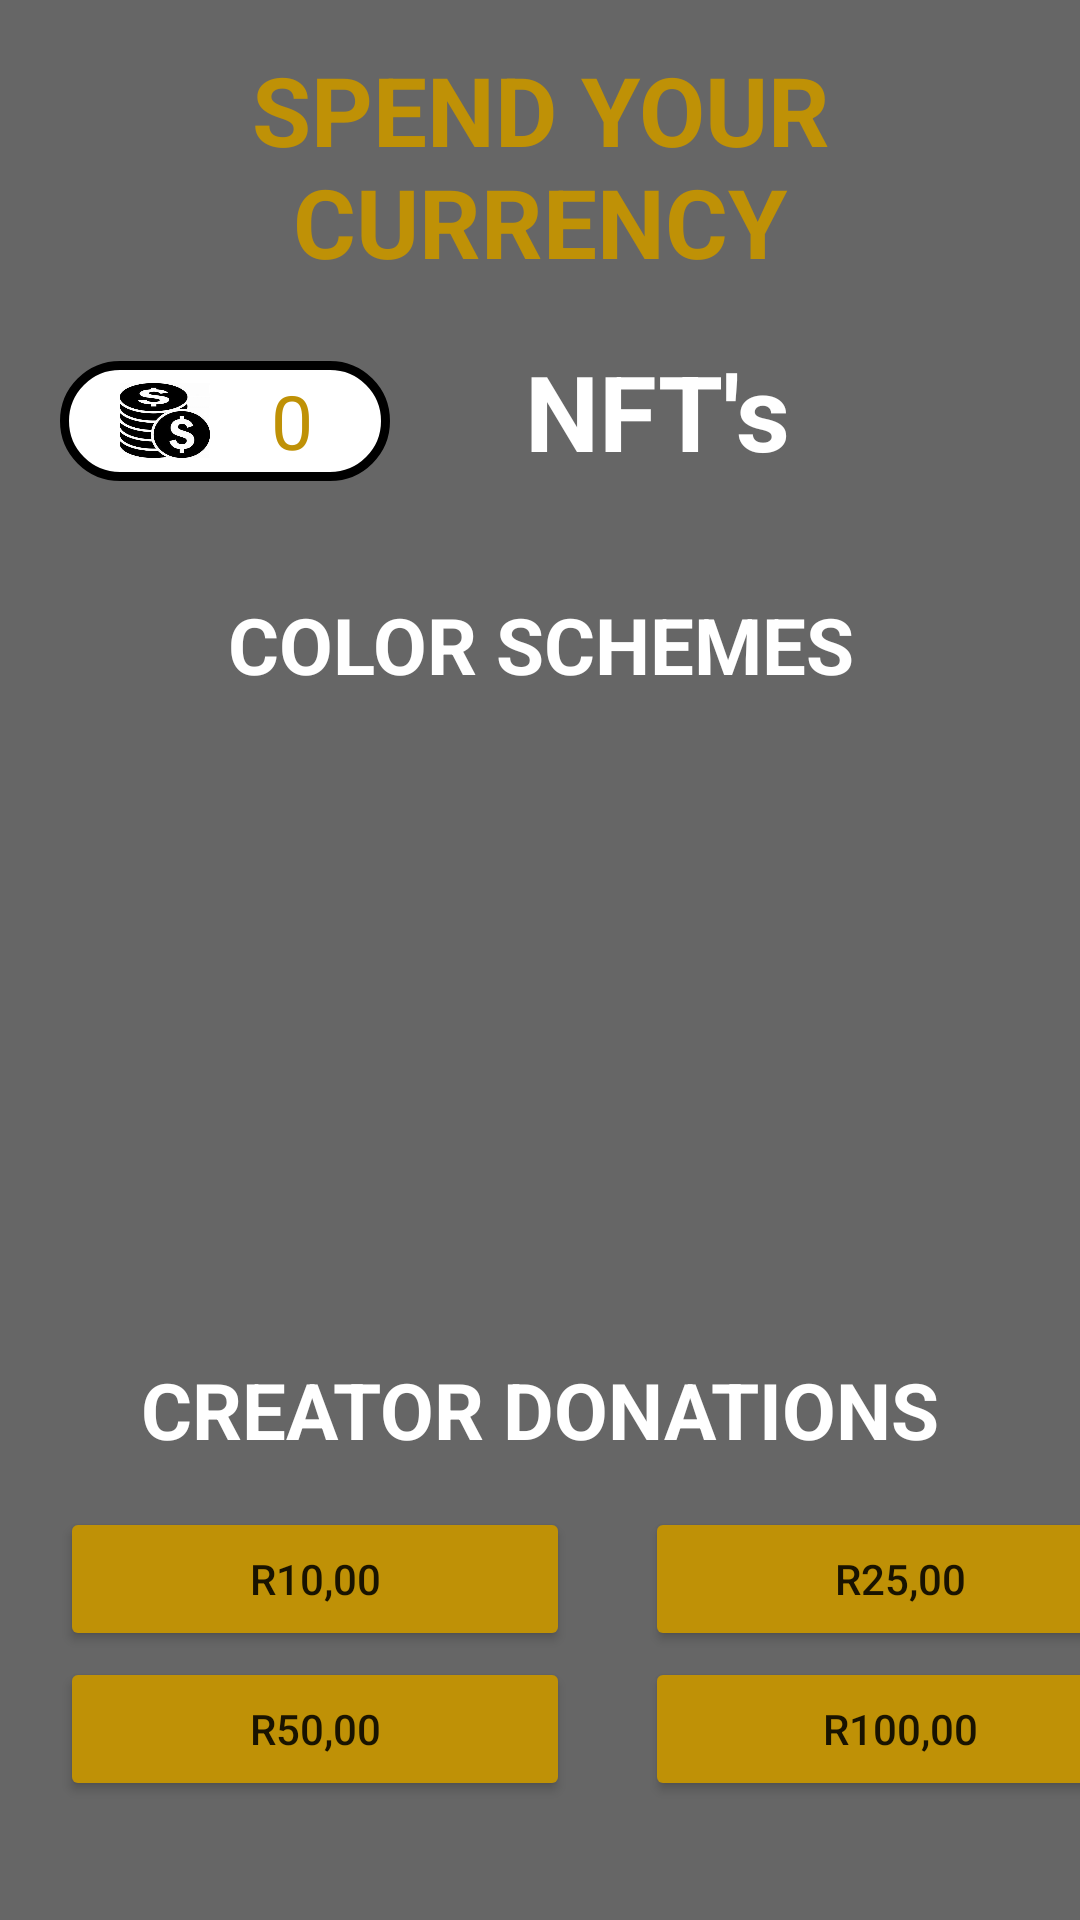

Named icons in this screenshot (1080x1920) and their bounding boxes, [x1, y1, x2, y2]:
coin: [120, 383, 210, 458]
